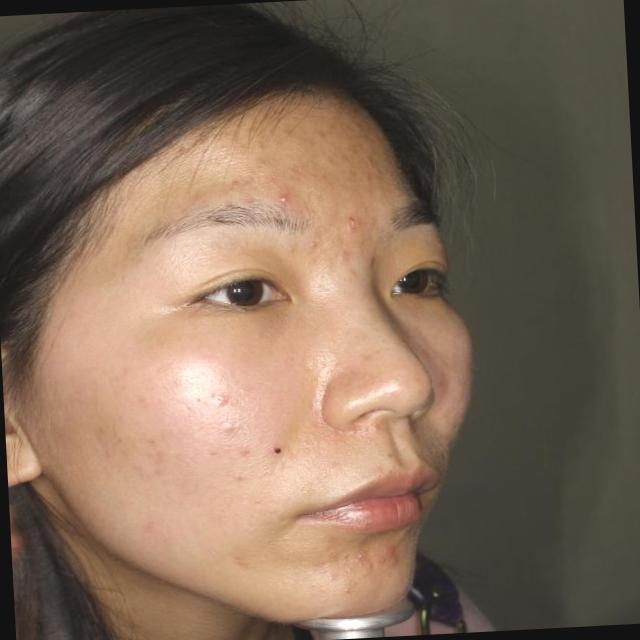acne: (374, 532, 410, 578), (338, 534, 372, 574), (326, 204, 363, 232), (274, 180, 300, 215)
